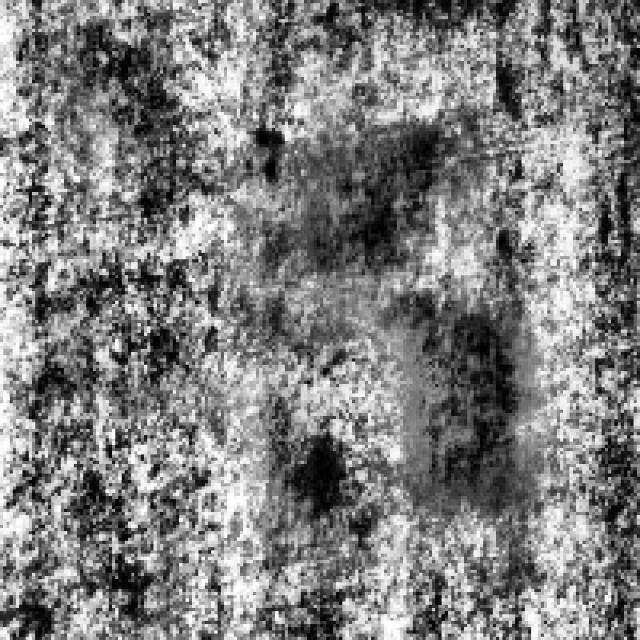Scratches: (374, 292, 524, 502), (294, 111, 436, 262)
